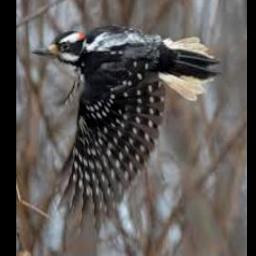Woodpecker: (32, 24, 220, 229)
